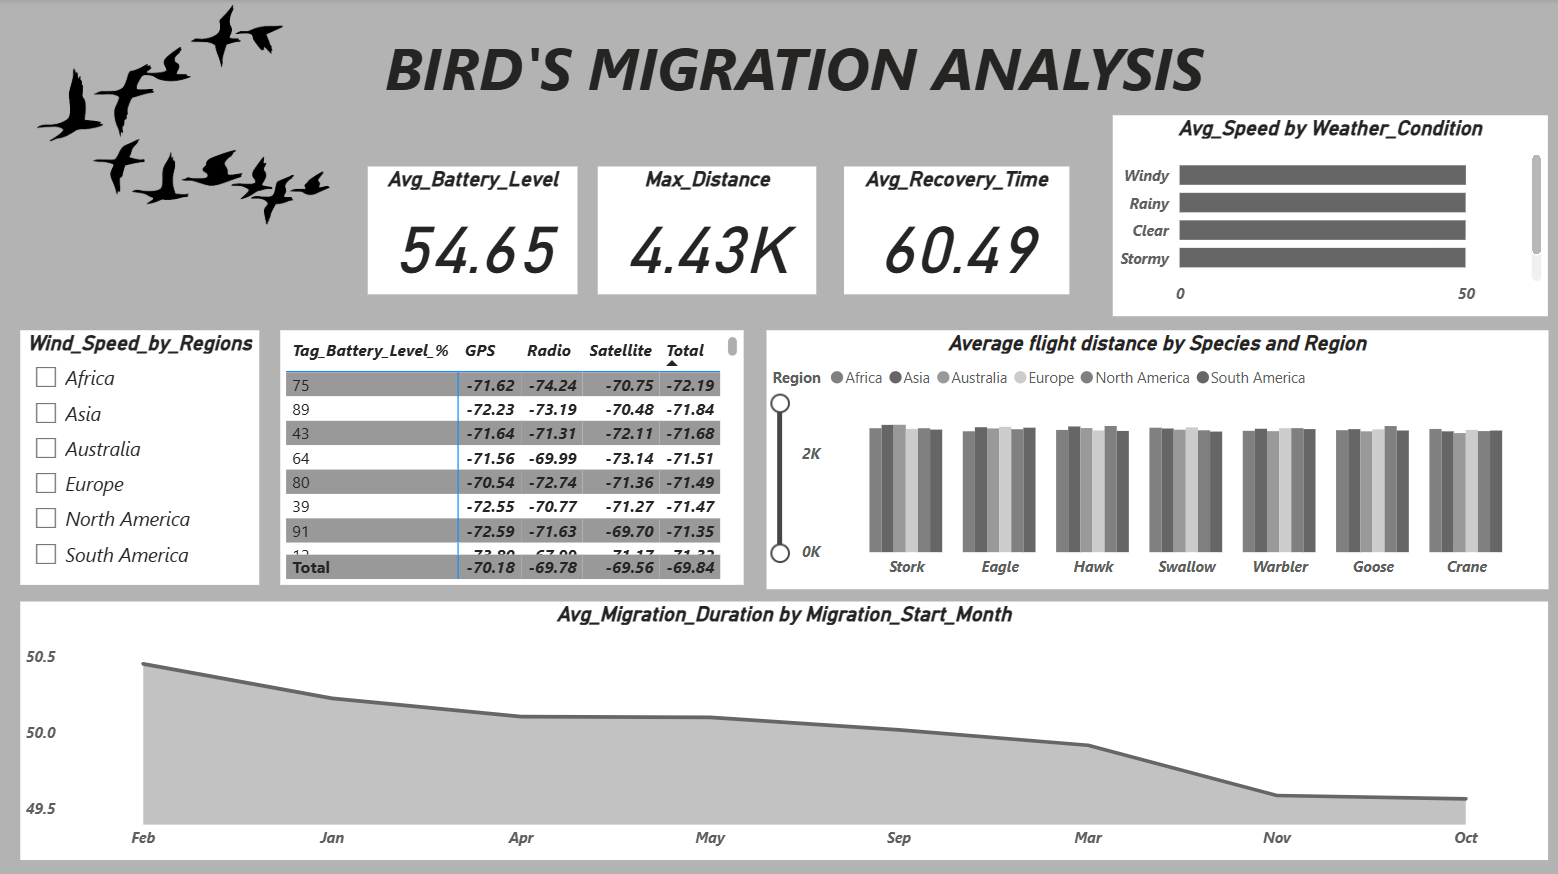

What the dashboard file says about the page in this screenshot:
{"tool":"powerbi","page":{"name":"Page 1","canvas":[1280,720],"ordinal":0},"visuals":[{"type":"clusteredColumnChart","title":"Average flight distance by Species and Region","fields":{"Category":["BIRD_MIGRATION_DATASET.Species"],"Y":["BIRD_MIGRATION_DATASET.Measure"],"Series":["BIRD_MIGRATION_DATASET.Region"]},"box":[0,439.5,666.3,280.2],"z":0},{"type":"clusteredBarChart","fields":{"Y":["BIRD_MIGRATION_DATASET.Avg_Speed"],"Category":["BIRD_MIGRATION_DATASET.Weather_Condition"]},"box":[666.3,439.5,614,280.2],"z":1000},{"type":"lineChart","fields":{"Category":["BIRD_MIGRATION_DATASET.Migration_Start_Month"],"Y":["BIRD_MIGRATION_DATASET.Avg_Migration_Duration"]},"box":[0,227.9,482.6,211.6],"z":2000},{"type":"pivotTable","fields":{"Columns":["BIRD_MIGRATION_DATASET.Tag_Type"],"Values":["BIRD_MIGRATION_DATASET.Avg_Signal_Strength"],"Rows":["BIRD_MIGRATION_DATASET.Tag_Battery_Level_%"]},"box":[482.6,227.9,380.2,211.6],"z":3000},{"type":"card","title":"Avg_Battery_Level","fields":{"Values":["BIRD_MIGRATION_DATASET.Avg_Battery_Level"]},"box":[154.7,123.3,236,94.2],"z":4000},{"type":"card","title":"Max_Distance","fields":{"Values":["BIRD_MIGRATION_DATASET.Max_Distance"]},"box":[390.7,123.3,238.4,104.7],"z":5000},{"type":"card","title":"Avg_Recovery_Time","fields":{"Values":["BIRD_MIGRATION_DATASET.Avg_Recovery_Time"]},"box":[639.5,123.3,238.4,104.7],"z":6000},{"type":"slicer","title":"Wind_Speed_by_Regions","fields":{"Values":["BIRD_MIGRATION_DATASET.Region"]},"box":[1046.5,203.5,233.7,219.8],"z":7000},{"type":"textbox","box":[74.4,0,739.5,100],"z":8000},{"type":"image","box":[877.9,0,302.3,189.5],"z":9000}]}

Visuals, with their boxes in screenshot pixels (x1, y1, x2, y2), scaled from the page's 1280x720 canvas onto the 1558x874 screenshot:
"Average flight distance by Species and Region" clusteredColumnChart: [0, 534, 811, 873]
clusteredBarChart - BIRD_MIGRATION_DATASET.Avg_Speed x BIRD_MIGRATION_DATASET.Weather_Condition: [811, 534, 1557, 873]
lineChart - BIRD_MIGRATION_DATASET.Migration_Start_Month x BIRD_MIGRATION_DATASET.Avg_Migration_Duration: [0, 277, 587, 534]
pivotTable - BIRD_MIGRATION_DATASET.Tag_Type x BIRD_MIGRATION_DATASET.Avg_Signal_Strength: [587, 277, 1050, 534]
"Avg_Battery_Level" card: [188, 150, 476, 264]
"Max_Distance" card: [476, 150, 766, 277]
"Avg_Recovery_Time" card: [778, 150, 1069, 277]
"Wind_Speed_by_Regions" slicer: [1274, 247, 1557, 514]
textbox: [91, 0, 991, 121]
image: [1069, 0, 1437, 230]
